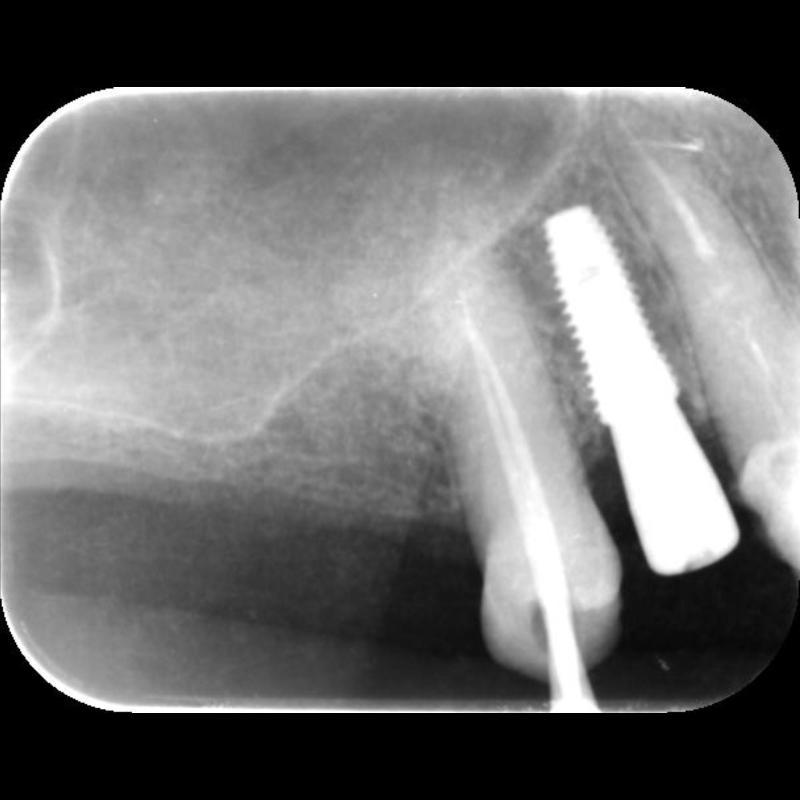Dentium: (540, 195, 678, 427)
